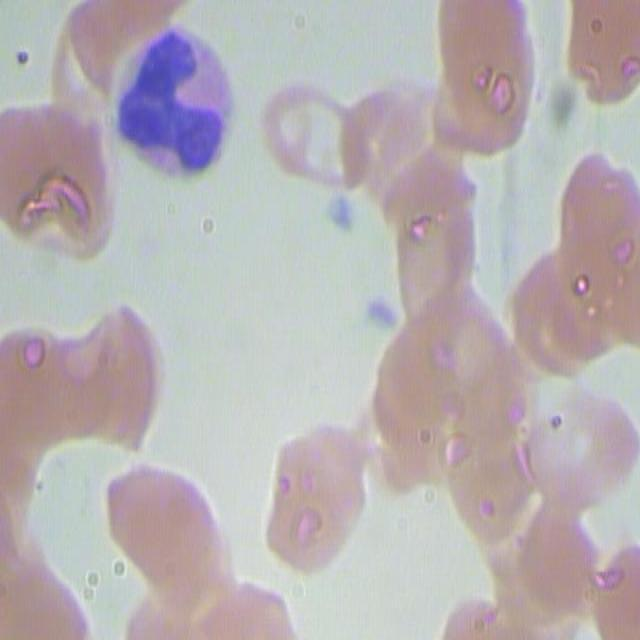RBC: (356, 302, 484, 494), (102, 458, 230, 640), (508, 362, 637, 518), (0, 101, 114, 271), (430, 0, 543, 157), (59, 295, 166, 450), (260, 420, 361, 576), (255, 64, 369, 199), (559, 148, 640, 333), (500, 252, 620, 376), (54, 4, 196, 107), (497, 490, 594, 636), (389, 165, 477, 309), (445, 428, 545, 548), (562, 0, 640, 103), (0, 336, 88, 419), (0, 564, 90, 640), (204, 581, 305, 640), (585, 528, 640, 636)
WBC: (122, 24, 234, 179)
platelets: (362, 290, 405, 340), (328, 194, 362, 234)
